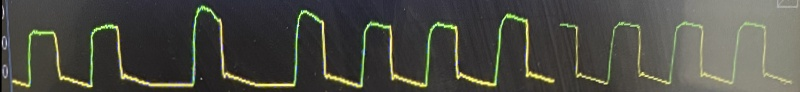normal_pressure: (15, 2, 794, 92)
